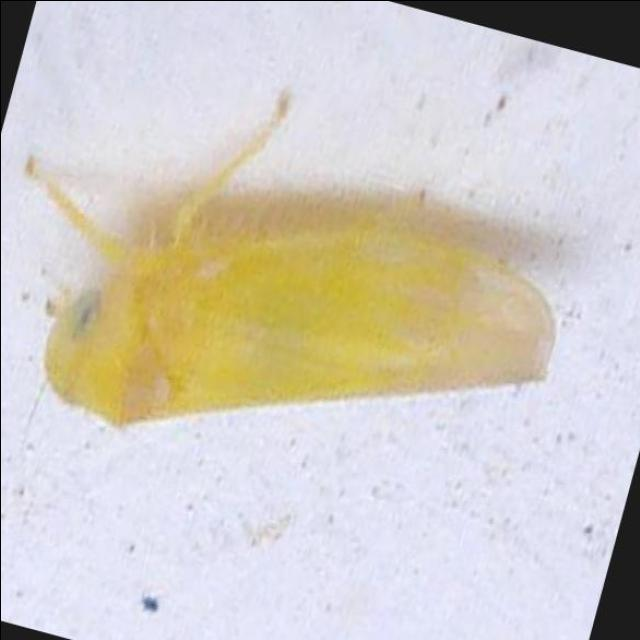green leaf hopper: (25, 96, 553, 426)
